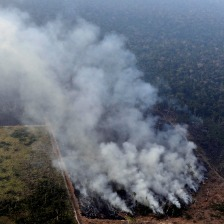incendio: (56, 138, 213, 222)
